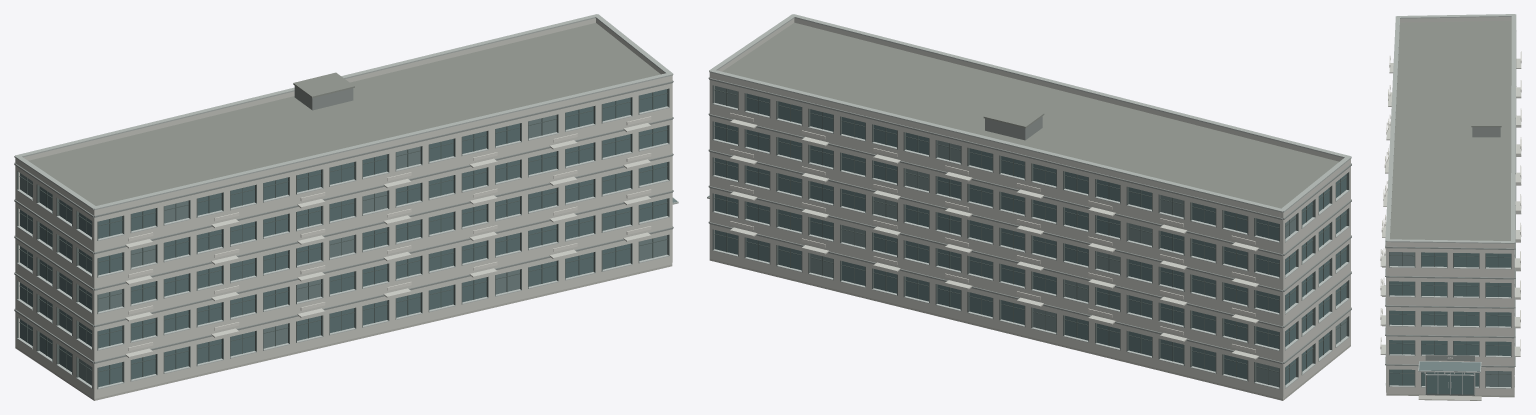
File: mapped_1135360051.glb
3 views of the same model, side by side, from view 1: azimuth 30°, elevation 25°; view 2: azimuth 150°, elevation 25°; view 3: azimuth 270°, elevation 25° (orthographic). The views are drawn at different scales.
Parts seen in each view (by area): view 1: mapped_1135360051_HousingIvory, mapped_1135360051_WindowGlass, mapped_1135360051_FacultyRoof, mapped_1135360051_WindowReveal, mapped_1135360051_FacultyDarkPanel, mapped_1135360051_WindowAluminium, mapped_1135360051_WindowRubber, mapped_1135360051_Teaching5TileJoint, mapped_1135360051_WindowGlassLight, mapped_1135360051_WhiteTrim, mapped_1135360051_EntryStone; view 2: mapped_1135360051_HousingIvory, mapped_1135360051_WindowGlass, mapped_1135360051_FacultyRoof, mapped_1135360051_WindowReveal, mapped_1135360051_WindowAluminium, mapped_1135360051_FacultyDarkPanel, mapped_1135360051_Teaching5TileJoint, mapped_1135360051_WindowRubber, mapped_1135360051_WindowGlassLight, mapped_1135360051_WhiteTrim, mapped_1135360051_EntryStone; view 3: mapped_1135360051_FacultyRoof, mapped_1135360051_HousingIvory, mapped_1135360051_WindowGlass, mapped_1135360051_Teaching5TileJoint, mapped_1135360051_FacultyDarkPanel, mapped_1135360051_WindowAluminium, mapped_1135360051_WindowGlassLight, mapped_1135360051_WindowReveal, mapped_1135360051_WindowRubber, mapped_1135360051_WhiteTrim, mapped_1135360051_EntryStone.
Part boxes in pixels (<box>): mapped_1135360051_HousingIvory: <box>15,18,672,398</box>; mapped_1135360051_WindowGlass: <box>20,89,667,386</box>; mapped_1135360051_FacultyRoof: <box>28,23,660,205</box>; mapped_1135360051_WindowReveal: <box>17,88,669,388</box>; mapped_1135360051_FacultyDarkPanel: <box>14,80,673,363</box>; mapped_1135360051_WindowAluminium: <box>17,106,678,389</box>; mapped_1135360051_WindowRubber: <box>19,92,667,384</box>; mapped_1135360051_Teaching5TileJoint: <box>14,14,673,209</box>; mapped_1135360051_WindowGlassLight: <box>20,115,677,385</box>; mapped_1135360051_WhiteTrim: <box>128,116,651,350</box>; mapped_1135360051_EntryStone: <box>15,264,672,400</box>; mapped_1135360051_HousingIvory: <box>709,18,1350,398</box>; mapped_1135360051_WindowGlass: <box>714,93,1346,384</box>; mapped_1135360051_FacultyRoof: <box>722,22,1338,208</box>; mapped_1135360051_WindowReveal: <box>712,85,1349,389</box>; mapped_1135360051_WindowAluminium: <box>707,103,1349,389</box>; mapped_1135360051_FacultyDarkPanel: <box>708,77,1351,364</box>; mapped_1135360051_Teaching5TileJoint: <box>709,14,1351,212</box>; mapped_1135360051_WindowRubber: <box>714,88,1346,384</box>; mapped_1135360051_WindowGlassLight: <box>708,86,1346,387</box>; mapped_1135360051_WhiteTrim: <box>730,113,1255,352</box>; mapped_1135360051_EntryStone: <box>709,259,1350,400</box>; mapped_1135360051_FacultyRoof: <box>1390,20,1511,240</box>; mapped_1135360051_HousingIvory: <box>1380,17,1521,395</box>; mapped_1135360051_WindowGlass: <box>1389,252,1510,394</box>; mapped_1135360051_Teaching5TileJoint: <box>1385,14,1516,243</box>; mapped_1135360051_FacultyDarkPanel: <box>1385,31,1516,367</box>; mapped_1135360051_WindowAluminium: <box>1385,250,1514,394</box>; mapped_1135360051_WindowGlassLight: <box>1389,252,1510,386</box>; mapped_1135360051_WindowReveal: <box>1389,252,1511,395</box>; mapped_1135360051_WindowRubber: <box>1389,252,1510,386</box>; mapped_1135360051_WhiteTrim: <box>1380,51,1521,351</box>; mapped_1135360051_EntryStone: <box>1386,394,1514,400</box>.
Size of the model in its own units: 59.43 by 19.28 by 14.9.
